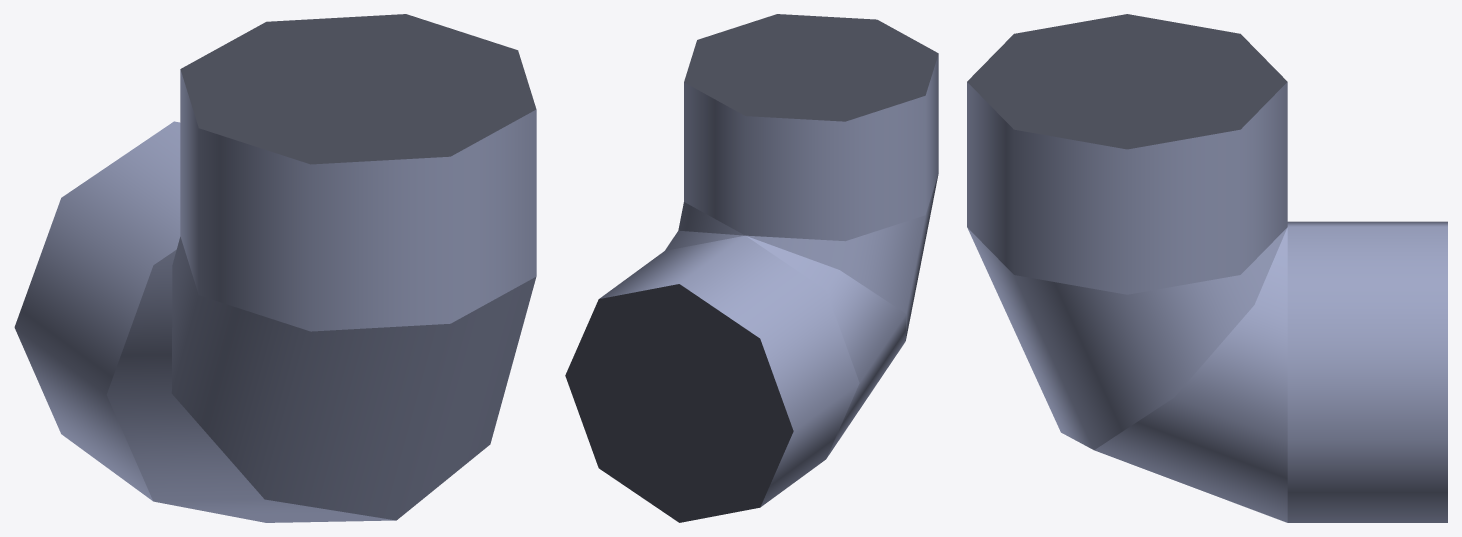
File: gutter-vertical-bottom.glb
3 views of the same model, side by side, from view 1: azimuth 30°, elevation 25°; view 2: azimuth 150°, elevation 25°; view 3: azimuth 270°, elevation 25° (orthographic). The views are drawn at different scales.
Parts seen in each view (by area): view 1: gutter-vertical-bottom; view 2: gutter-vertical-bottom; view 3: gutter-vertical-bottom.
Boxes of the visible parts, x1,y1,x2,y2 form: gutter-vertical-bottom: (14, 14, 536, 522); gutter-vertical-bottom: (565, 14, 938, 522); gutter-vertical-bottom: (967, 14, 1447, 522).
Bounding box in the file's own units: 0.2 × 0.3 × 0.3.
1 material, 1 textured.
